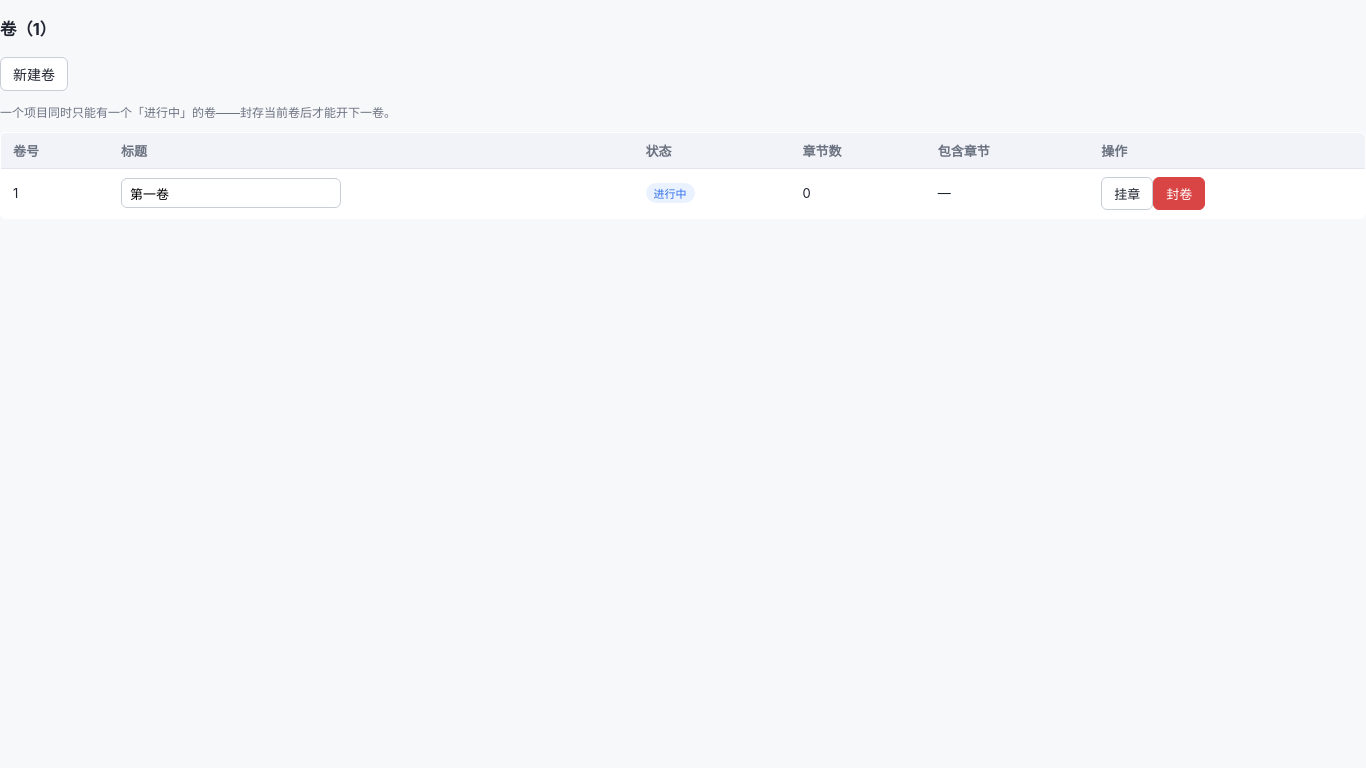
Test: VolumesTab › 确认封卷 ⇒ 调 seal 端点并提示已冻结
The width and height of the screenshot is (1366, 768).
Click the button with test id "volume-seal-vol_1".
click(1179, 193)  # box [1153, 177, 1205, 210]
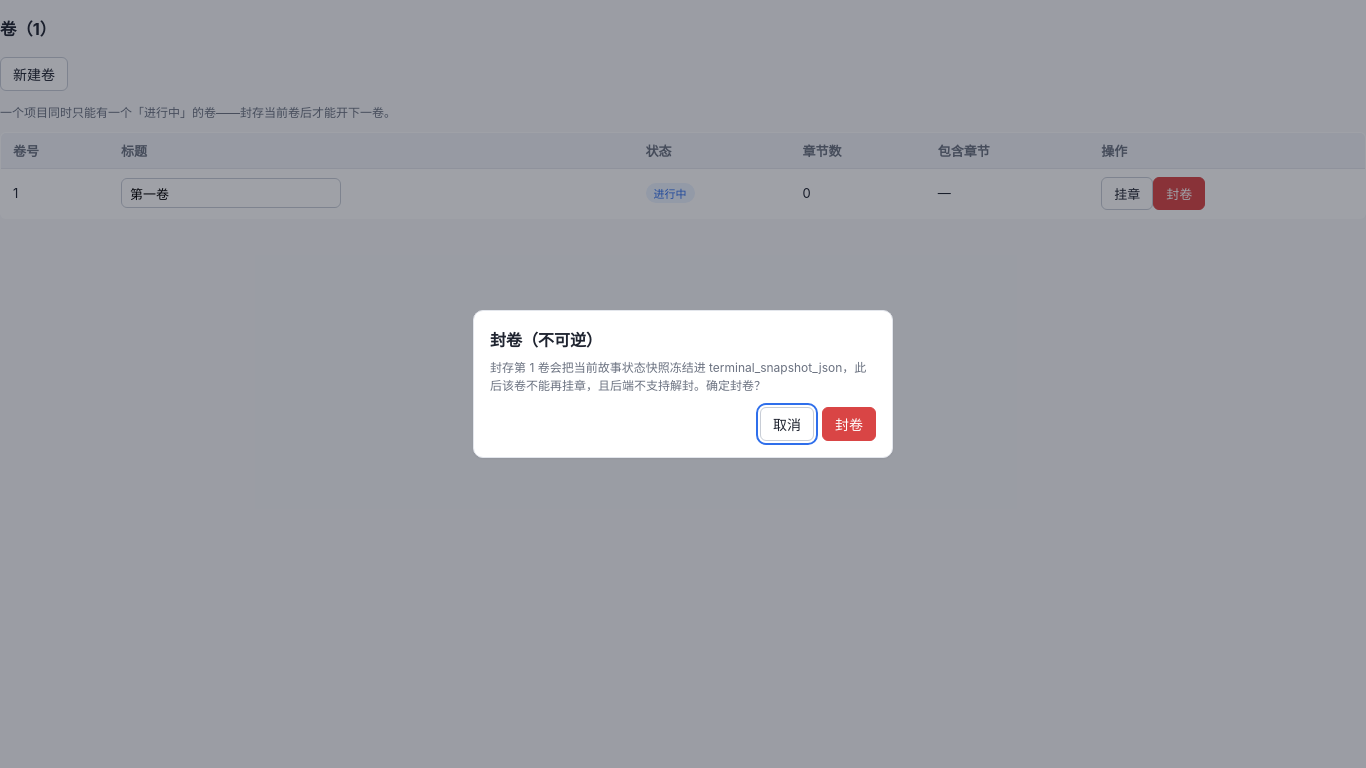
Click the button with test id "volume-seal-confirm-confirm".
click(849, 424)  # box [822, 407, 876, 441]
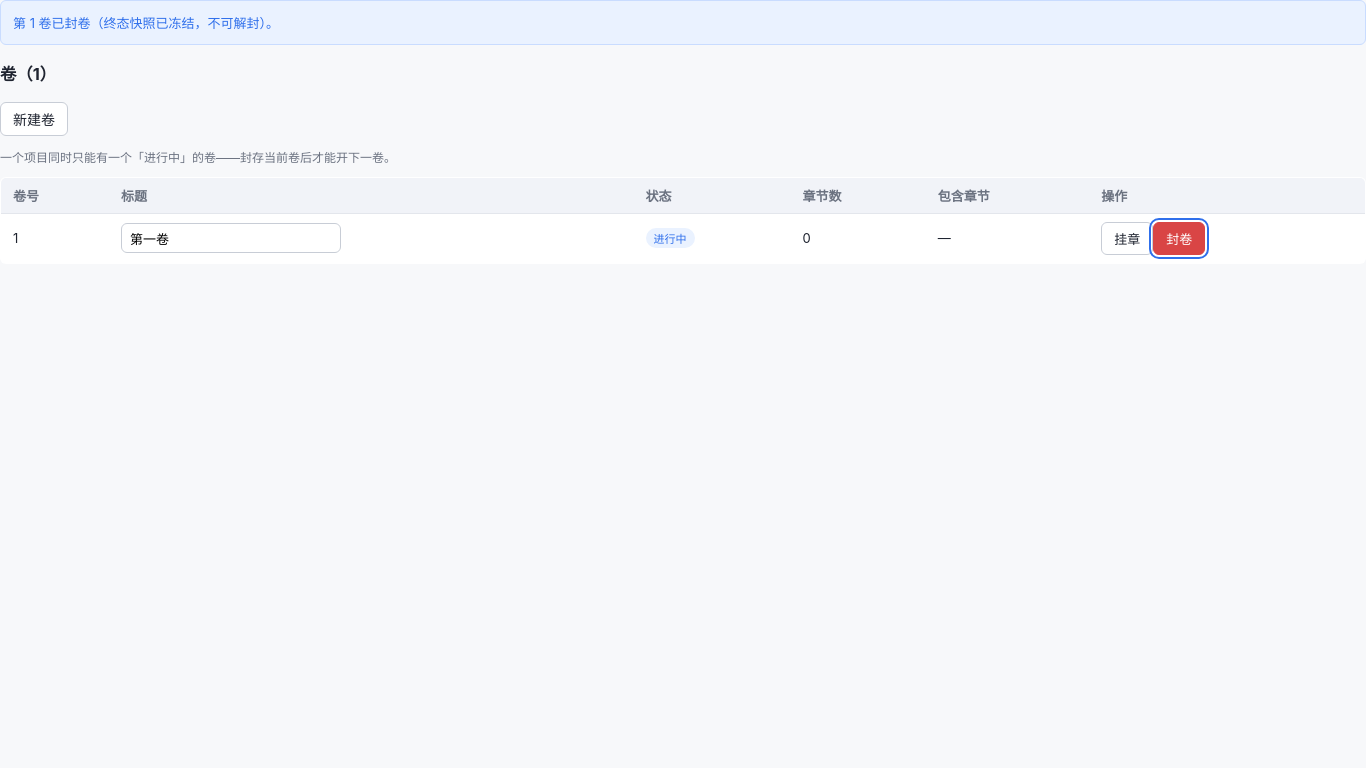
Expected: the text "第 1 卷已封卷（终态快照已冻结，不可解封）。" is shown, [0, 0, 1365, 45]
